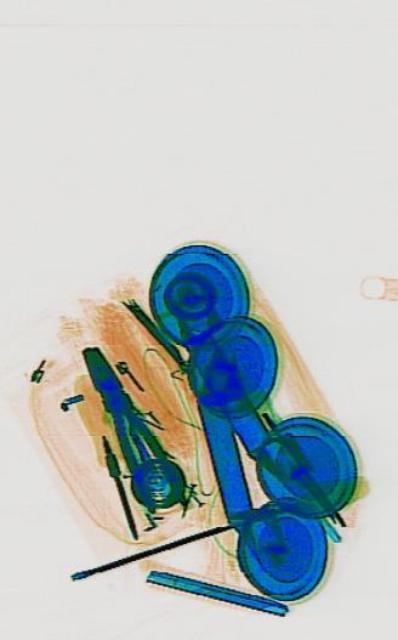Pliers: (68, 324, 185, 530)
